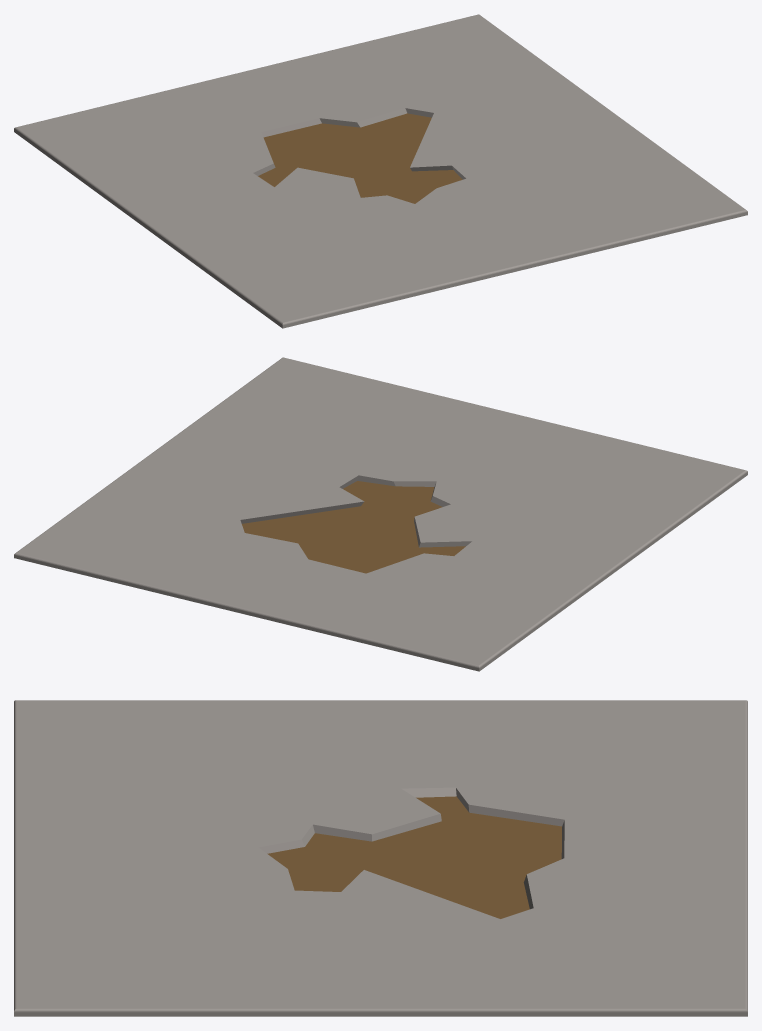
File: ConcreteFloorHole2.fbx
3 views of the same model, one above another, from view 1: azimuth 30°, elevation 25°; view 2: azimuth 150°, elevation 25°; view 3: azimuth 270°, elevation 25° (orthographic). The views are drawn at different scales.
Visible parts, largest first — view 1: ConcreteFloorHole2; view 2: ConcreteFloorHole2; view 3: ConcreteFloorHole2.
Part boxes in pixels (bbox=[...]): ConcreteFloorHole2: bbox=[14, 14, 747, 328]; ConcreteFloorHole2: bbox=[14, 357, 747, 671]; ConcreteFloorHole2: bbox=[14, 700, 747, 1016].
Bounding box in the file's own units: 12 × 0.1226 × 12.
